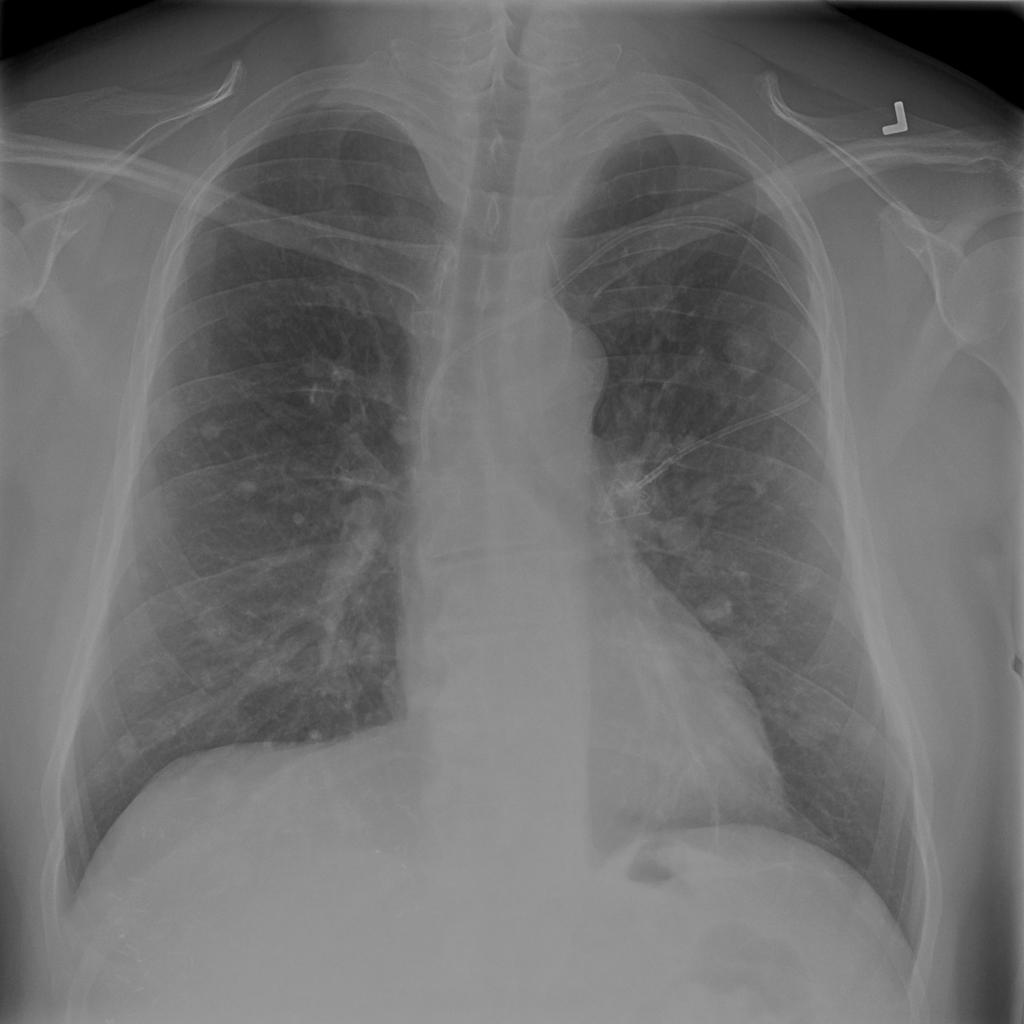nodule: (712, 309, 780, 390), (778, 691, 848, 762), (651, 506, 719, 571), (214, 453, 269, 503), (187, 601, 240, 652), (678, 474, 729, 523), (187, 403, 237, 452), (687, 587, 741, 632), (182, 653, 236, 698), (112, 725, 149, 764)
